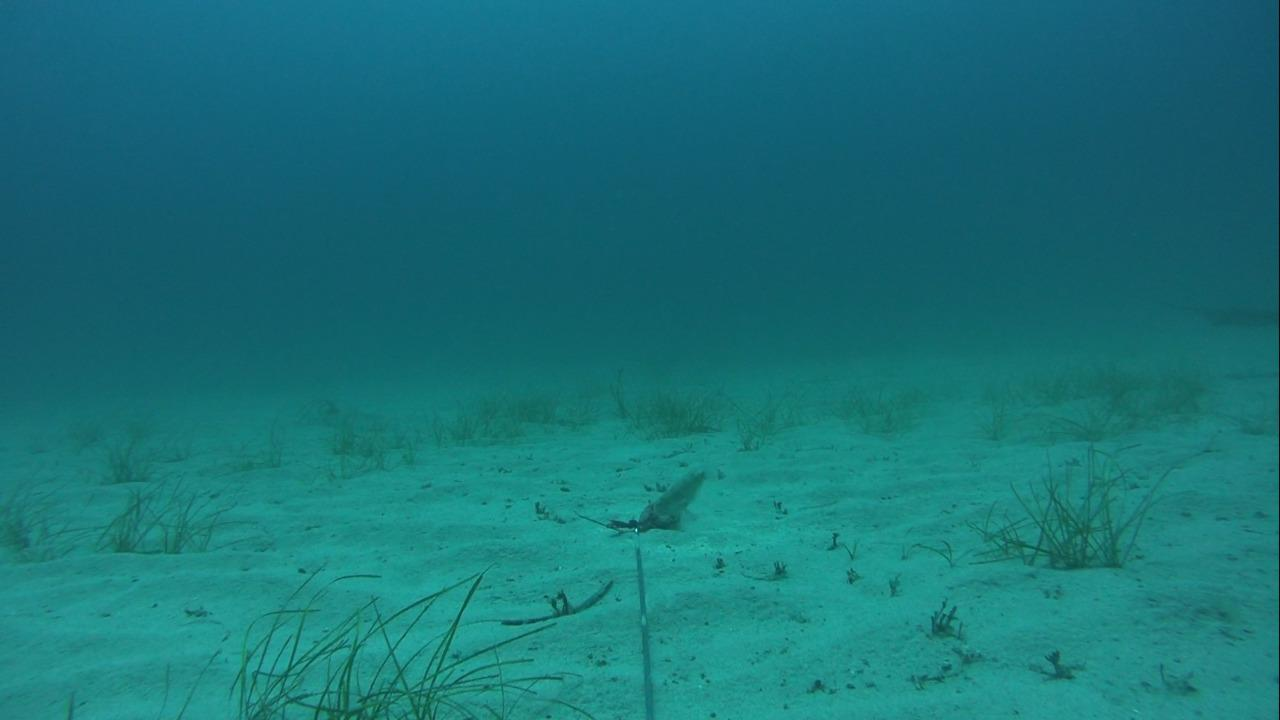myliobatis: (1155, 285, 1279, 332)
raor: (647, 467, 711, 524)
